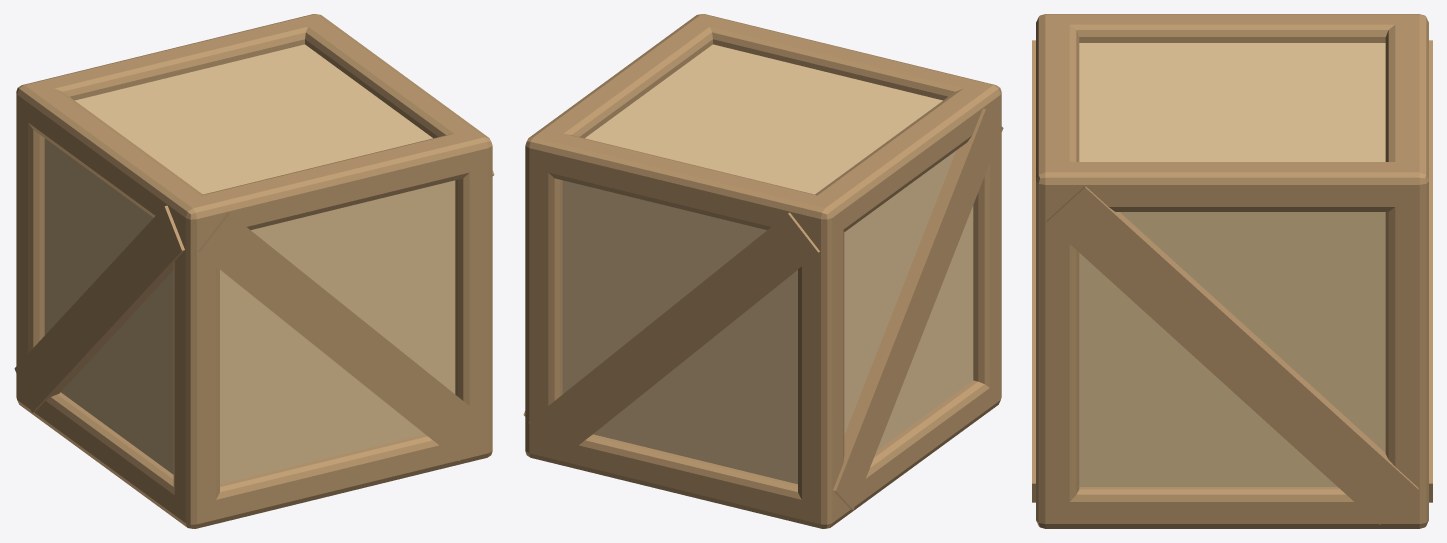
The model's file is crate.glb.
3 renders of one model, left to right at view 1: azimuth 30°, elevation 25°; view 2: azimuth 150°, elevation 25°; view 3: azimuth 270°, elevation 25°, orthographic. The views are drawn at different scales.
Parts seen in each view (by area): view 1: Crate; view 2: Crate; view 3: Crate.
Boxes of the visible parts, <box> form: Crate: <box>14,14,494,528</box>; Crate: <box>523,14,1003,528</box>; Crate: <box>1032,14,1432,528</box>.
Size of the model in its own units: 0.51 by 0.5 by 0.51.
